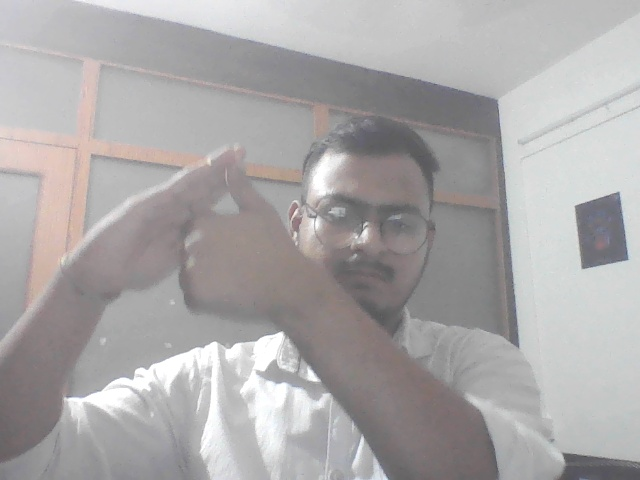I Feel You: (106, 131, 292, 339)
